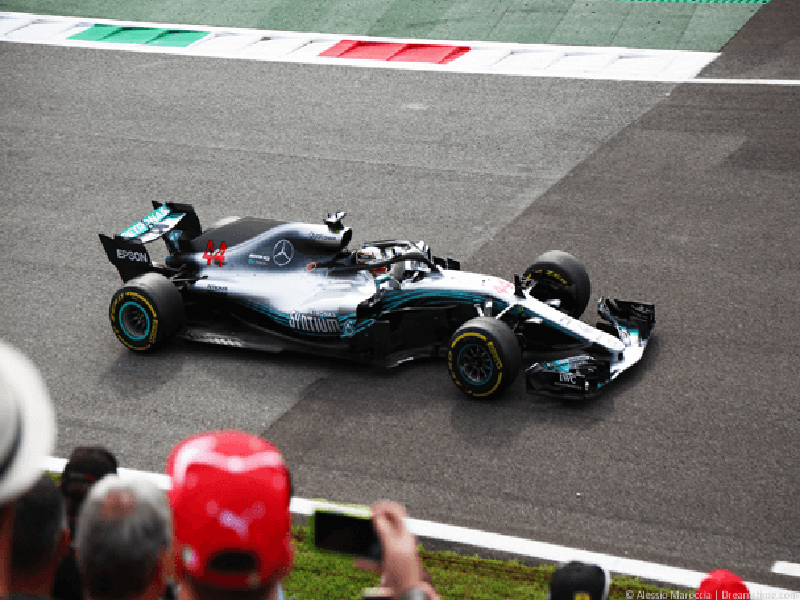f1: (98, 154, 654, 404)
